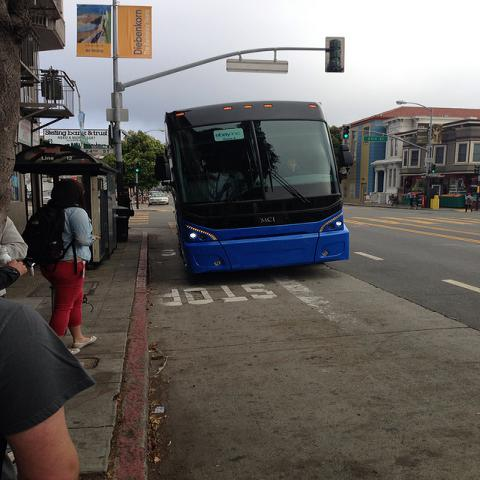bus: (161, 102, 351, 278)
car: (149, 192, 170, 205)
